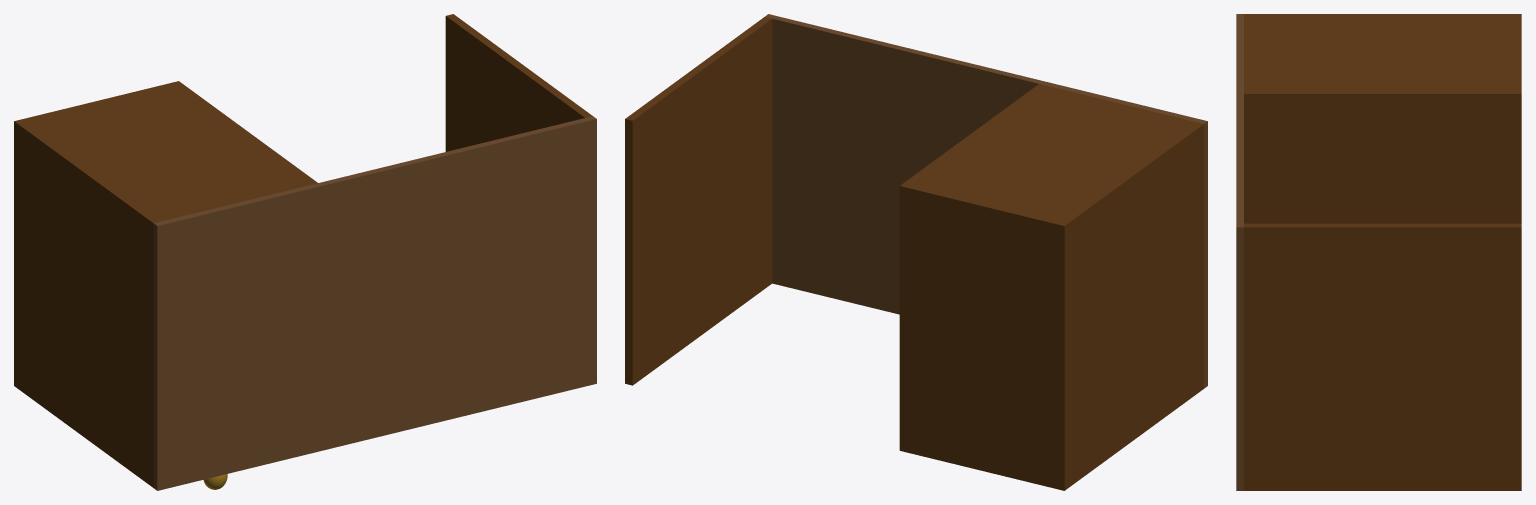
Rendered from tinker.obj.
The picture shows the model from 3 angles, left to right: view 1: azimuth 30°, elevation 25°; view 2: azimuth 150°, elevation 25°; view 3: azimuth 270°, elevation 25°; orthographic projection.
Visible parts, largest first — view 1: group_0_7030823, group_0_6306067; view 2: group_0_6306067, group_0_7030823; view 3: group_0_6306067, group_0_7030823.
Boxes of the visible parts, x1,y1,x2,y2 form: group_0_7030823: (153,116,596,490); group_0_6306067: (14,14,592,487); group_0_6306067: (625,17,1203,490); group_0_7030823: (765,14,1207,388); group_0_6306067: (1244,14,1521,490); group_0_7030823: (1236,14,1243,490).
Bounding box in the file's own units: 46 × 30 × 26.
